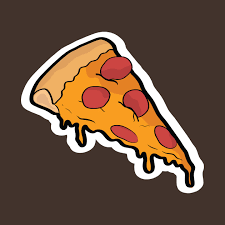pizza: (14, 27, 215, 198)
